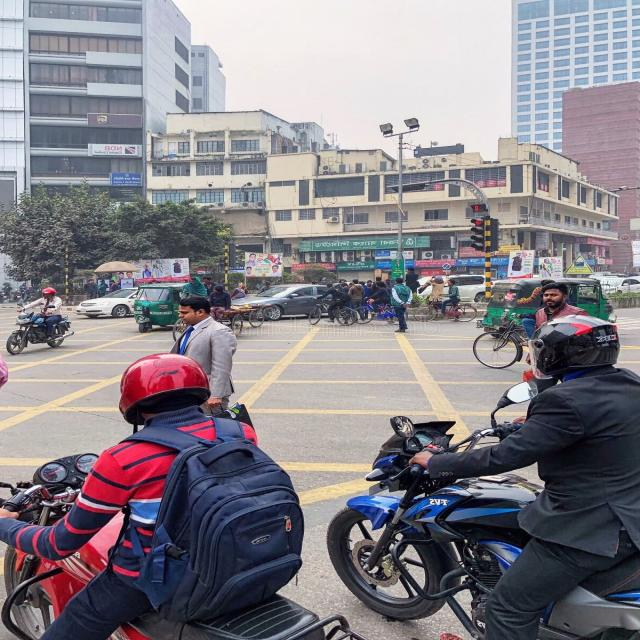Motorbike: (332, 409, 640, 640), (2, 433, 337, 640), (4, 309, 73, 359)
traffic-police: (388, 278, 421, 333)
